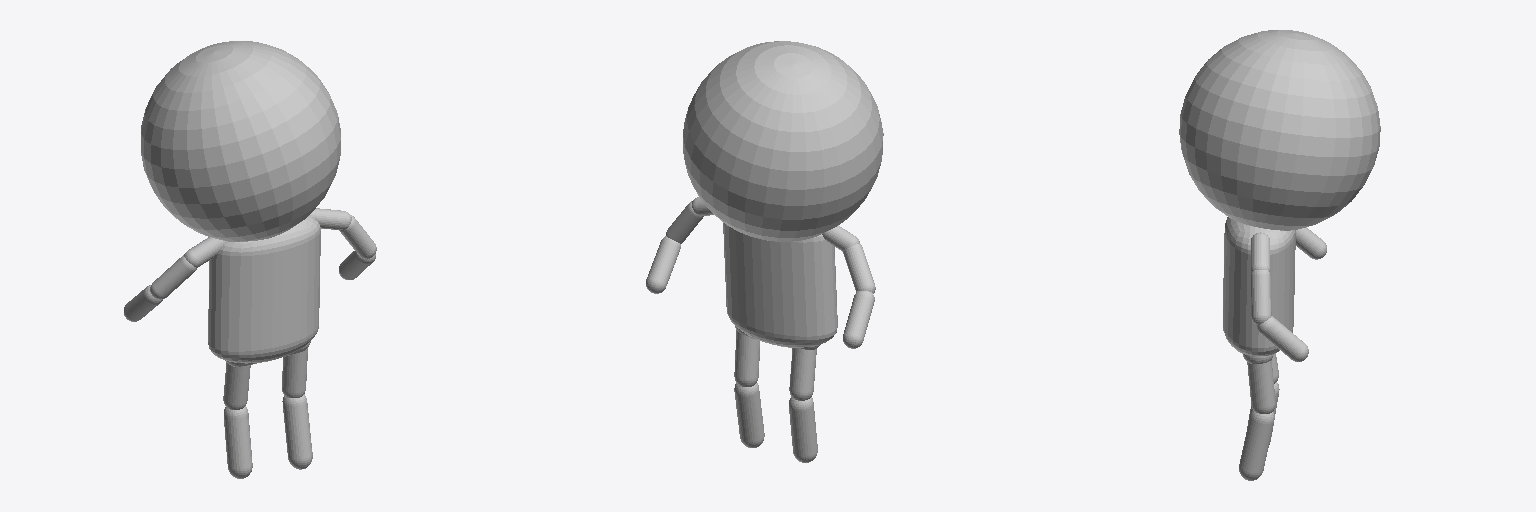
File: Stickman_000078.obj
3 renders of one model, left to right at view 1: azimuth 30°, elevation 25°; view 2: azimuth 150°, elevation 25°; view 3: azimuth 270°, elevation 25°, orthographic.
Visible parts, largest first — view 1: Head_Sphere.001, Body_Roundcube.002, LowerLegLeft_Roundcube.013, LowerLegRight_Roundcube.011, UpperLegLeft_Roundcube.012, UpperLegRight_Roundcube.010, UpperArmRight_Roundcube.015, UpperArmLeft_Roundcube.018, LowerArmRight_Roundcube.016, ShoulderRight_Roundcube.014, ShoulderLeft_Roundcube.017, LowerArmLeft_Roundcube.019; view 2: Head_Sphere.001, Body_Roundcube.002, LowerLegRight_Roundcube.011, LowerLegLeft_Roundcube.013, UpperLegRight_Roundcube.010, UpperLegLeft_Roundcube.012, LowerArmRight_Roundcube.016, LowerArmLeft_Roundcube.019, UpperArmRight_Roundcube.015, UpperArmLeft_Roundcube.018, ShoulderRight_Roundcube.014; view 3: Head_Sphere.001, Body_Roundcube.002, LowerLegLeft_Roundcube.013, UpperLegLeft_Roundcube.012, LowerArmLeft_Roundcube.019, UpperArmLeft_Roundcube.018, ShoulderLeft_Roundcube.017, LowerArmRight_Roundcube.016.
Boxes of the visible parts, box(x1,y1,x2,y2) form: Head_Sphere.001: box(141, 41, 340, 241); Body_Roundcube.002: box(208, 216, 320, 363); LowerLegLeft_Roundcube.013: box(282, 394, 312, 469); LowerLegRight_Roundcube.011: box(224, 406, 252, 478); UpperLegLeft_Roundcube.012: box(282, 348, 307, 397); UpperLegRight_Roundcube.010: box(223, 362, 250, 409); UpperArmRight_Roundcube.015: box(150, 255, 196, 299); UpperArmLeft_Roundcube.018: box(339, 215, 376, 258); LowerArmRight_Roundcube.016: box(124, 285, 162, 321); ShoulderRight_Roundcube.014: box(184, 237, 225, 267); ShoulderLeft_Roundcube.017: box(309, 208, 351, 229); LowerArmLeft_Roundcube.019: box(339, 251, 375, 279); Head_Sphere.001: box(683, 41, 883, 241); Body_Roundcube.002: box(723, 223, 837, 347); LowerLegRight_Roundcube.011: box(789, 397, 817, 462); LowerLegLeft_Roundcube.013: box(734, 383, 764, 447); UpperLegRight_Roundcube.010: box(789, 348, 816, 400); UpperLegLeft_Roundcube.012: box(734, 330, 759, 386); LowerArmRight_Roundcube.016: box(843, 291, 874, 348); LowerArmLeft_Roundcube.019: box(646, 236, 680, 293); UpperArmRight_Roundcube.015: box(843, 244, 875, 293); UpperArmLeft_Roundcube.018: box(666, 201, 703, 243); ShoulderRight_Roundcube.014: box(822, 225, 859, 251); Head_Sphere.001: box(1179, 30, 1380, 230); Body_Roundcube.002: box(1223, 217, 1295, 355); LowerLegLeft_Roundcube.013: box(1239, 410, 1274, 480); UpperLegLeft_Roundcube.012: box(1247, 360, 1275, 413); LowerArmLeft_Roundcube.019: box(1257, 316, 1308, 361); UpperArmLeft_Roundcube.018: box(1251, 270, 1271, 324); ShoulderLeft_Roundcube.017: box(1251, 232, 1269, 271); LowerArmRight_Roundcube.016: box(1296, 227, 1326, 259).
Bounding box in the file's own units: 7.4 × 13.13 × 5.73.